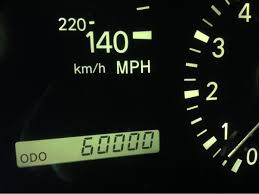Digital_Meter: (67, 136, 163, 159)
